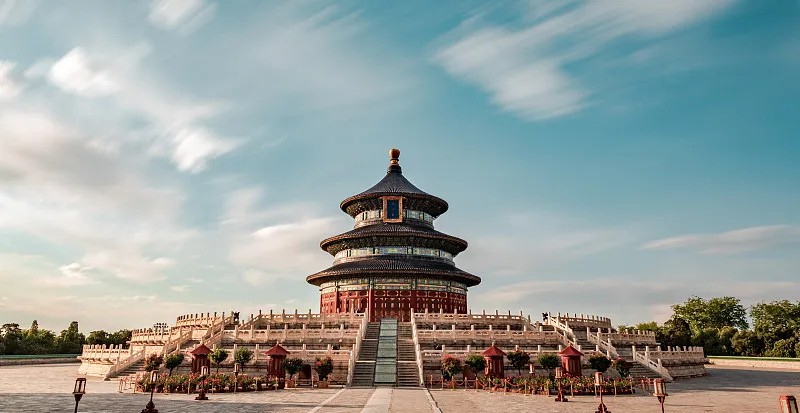Heaven: (305, 148, 483, 322)
